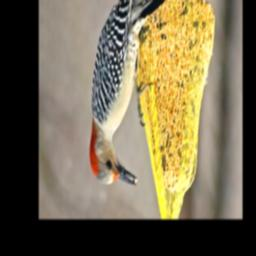Woodpecker: (76, 0, 183, 195)
